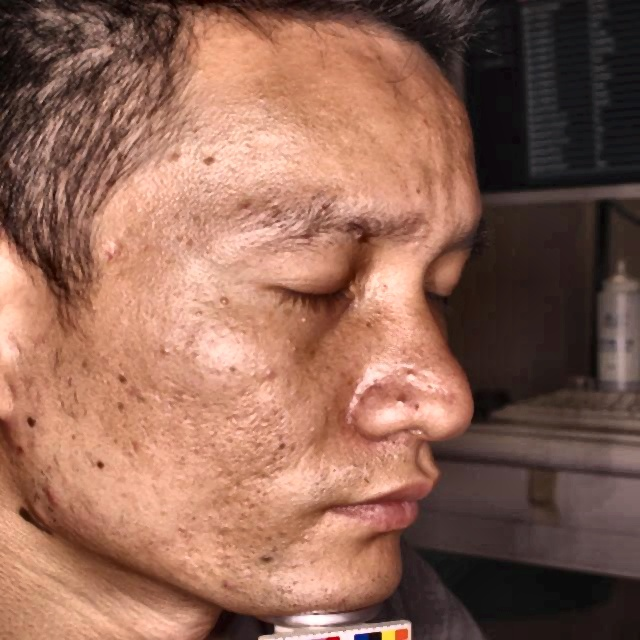comedone: (33, 484, 62, 504), (26, 500, 44, 524)
